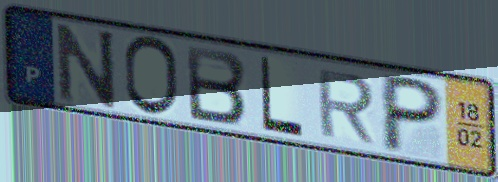B: (183, 42, 250, 127)
L: (258, 53, 306, 140)
N: (53, 21, 120, 111)
O: (122, 33, 182, 119)
P: (378, 71, 447, 156)
R: (314, 67, 378, 147)
